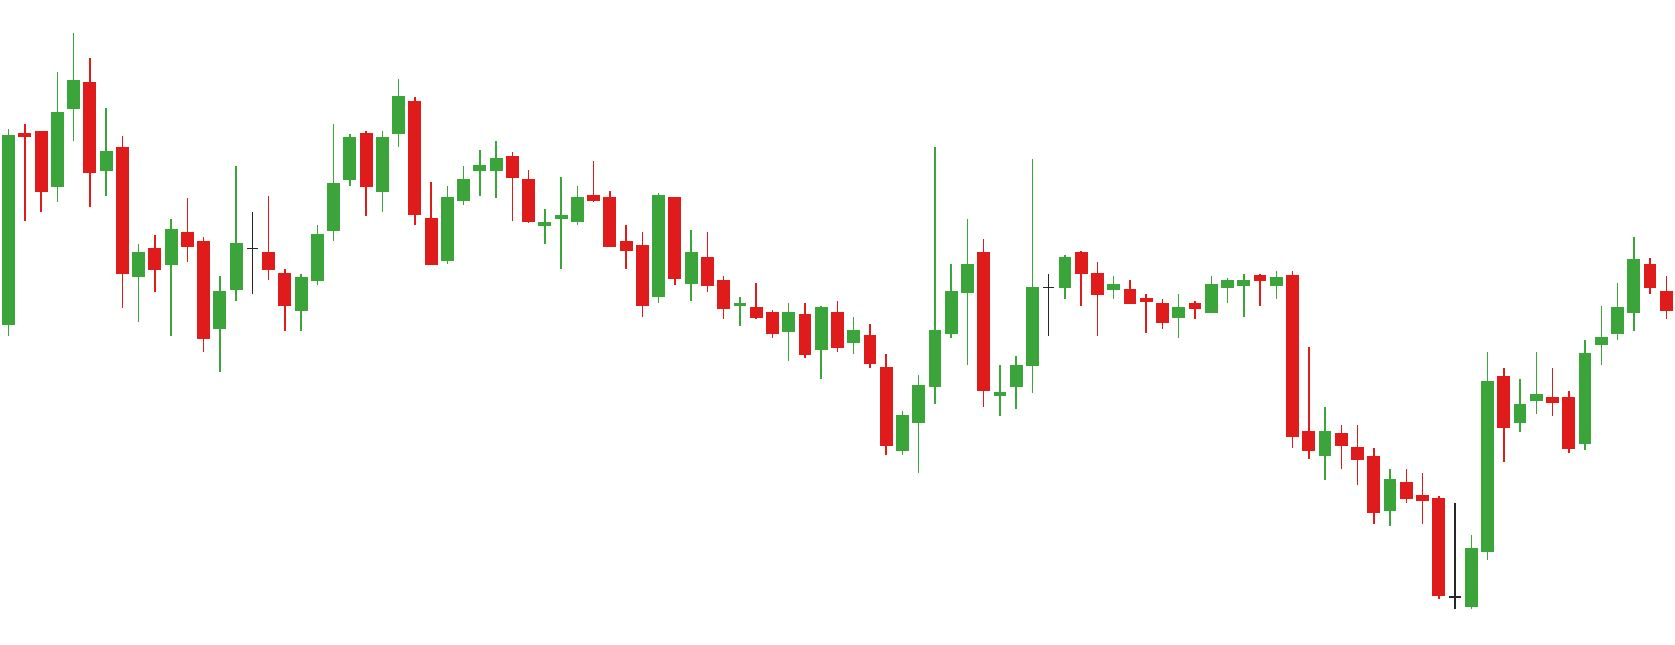sell: (226, 127, 376, 278)
